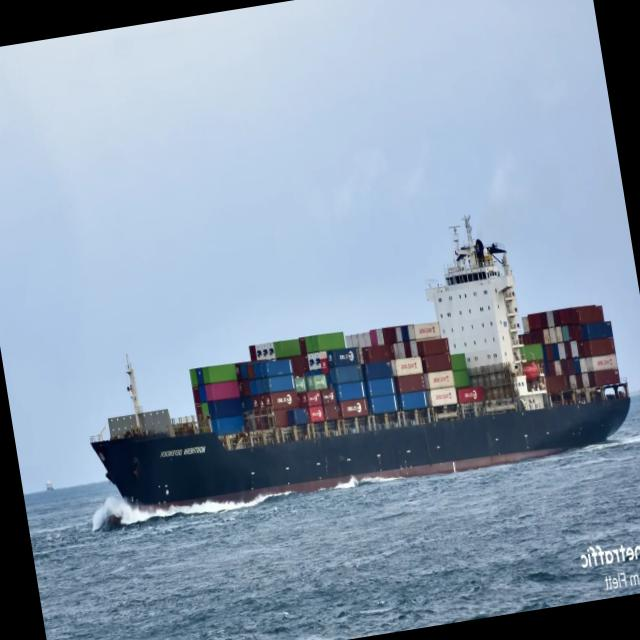Cargo: (92, 216, 630, 505)
